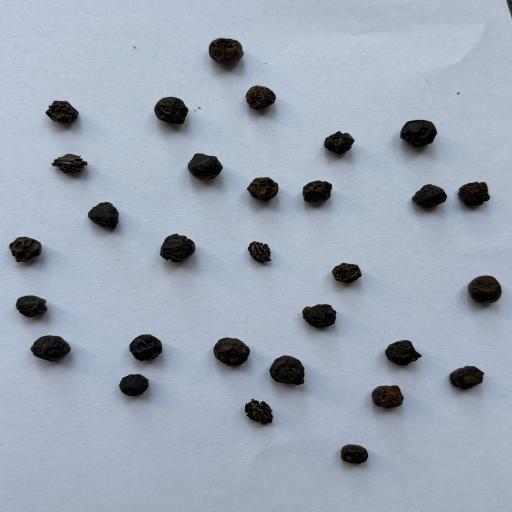Black_pepper: (332, 432, 382, 472), (266, 352, 308, 386), (379, 336, 420, 368), (27, 333, 72, 362), (160, 230, 196, 265), (399, 120, 442, 149), (209, 336, 249, 367), (366, 382, 407, 410), (151, 96, 189, 126), (298, 302, 339, 329), (454, 179, 492, 208), (468, 273, 502, 305), (410, 183, 450, 210), (208, 36, 245, 65), (127, 333, 165, 361), (449, 364, 488, 390), (187, 153, 224, 180), (91, 200, 124, 230), (298, 179, 334, 206), (10, 235, 43, 264), (243, 84, 277, 112), (16, 294, 50, 319), (46, 100, 78, 126), (322, 130, 354, 155), (247, 177, 279, 201), (331, 261, 363, 284), (118, 373, 150, 396)
papaya_seed: (218, 392, 295, 434), (220, 234, 285, 270), (50, 154, 99, 180)
